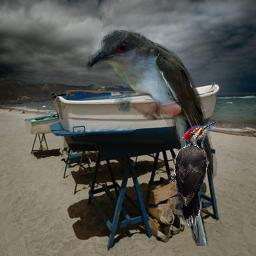Cuckoo: (86, 30, 218, 246)
Woodpecker: (165, 120, 220, 226)
